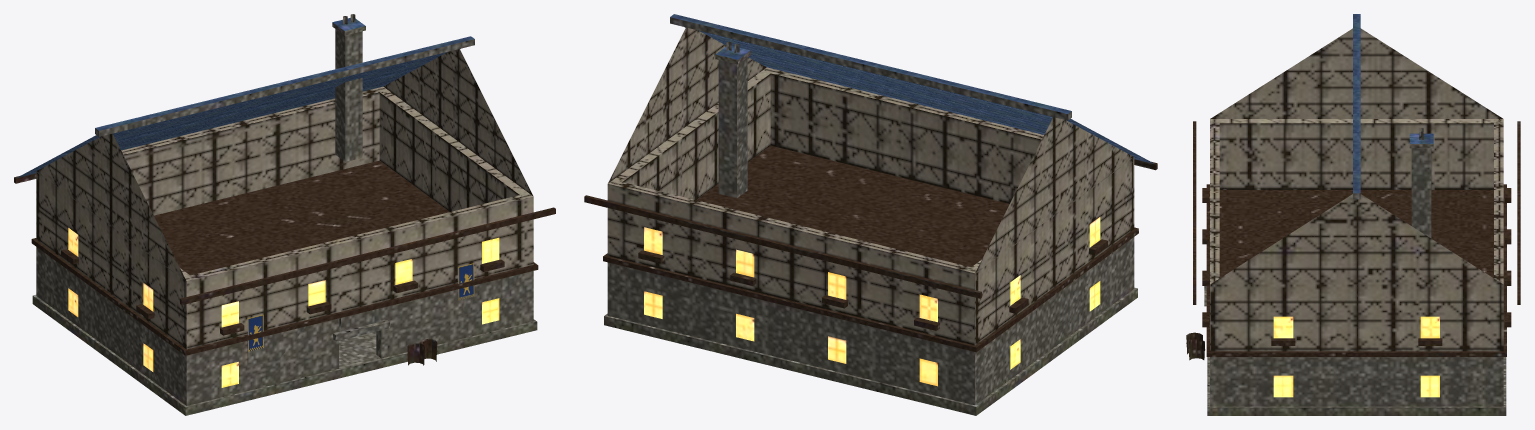
File: bld_market_card_lod2.glb
3 views of the same model, side by side, from view 1: azimuth 30°, elevation 25°; view 2: azimuth 150°, elevation 25°; view 3: azimuth 270°, elevation 25° (orthographic). The views are drawn at different scales.
Parts seen in each view (by area): view 1: market_card; view 2: market_card; view 3: market_card.
Part boxes in pixels (x1,y1,x2,y2): market_card: (14, 14, 555, 415); market_card: (584, 14, 1157, 415); market_card: (1186, 14, 1520, 415).
Size of the model in its own units: 33.15 by 21.33 by 26.13.
Materials: 1 (1 with a texture image).
